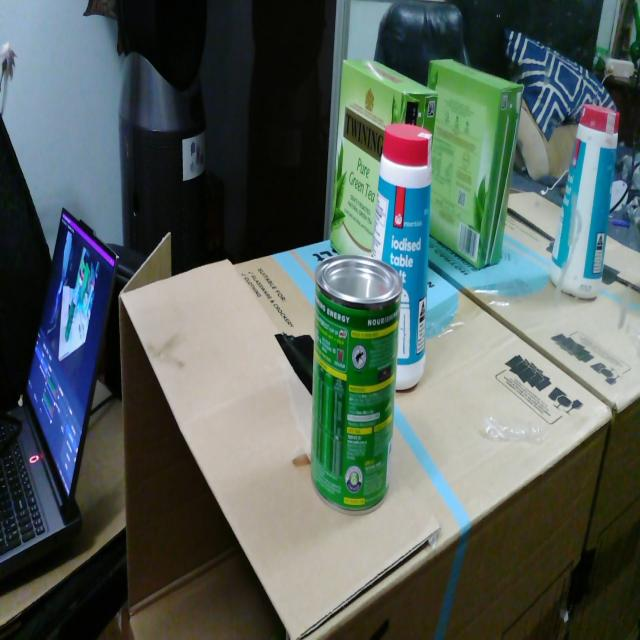nestle_milo_tin: (311, 254, 403, 514)
twinings_greentea_box: (330, 60, 438, 256)
woolworths_salt_bottle: (371, 123, 432, 390)
